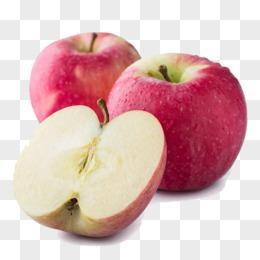apple: (14, 104, 172, 239), (105, 52, 249, 192), (29, 31, 139, 130)
